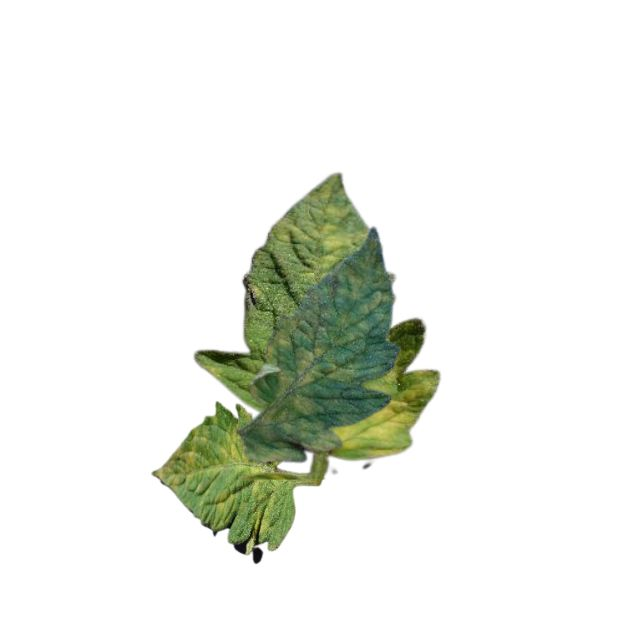Leaf_Mold: (263, 278, 390, 450), (151, 419, 279, 554), (269, 174, 369, 281), (329, 368, 440, 459)
